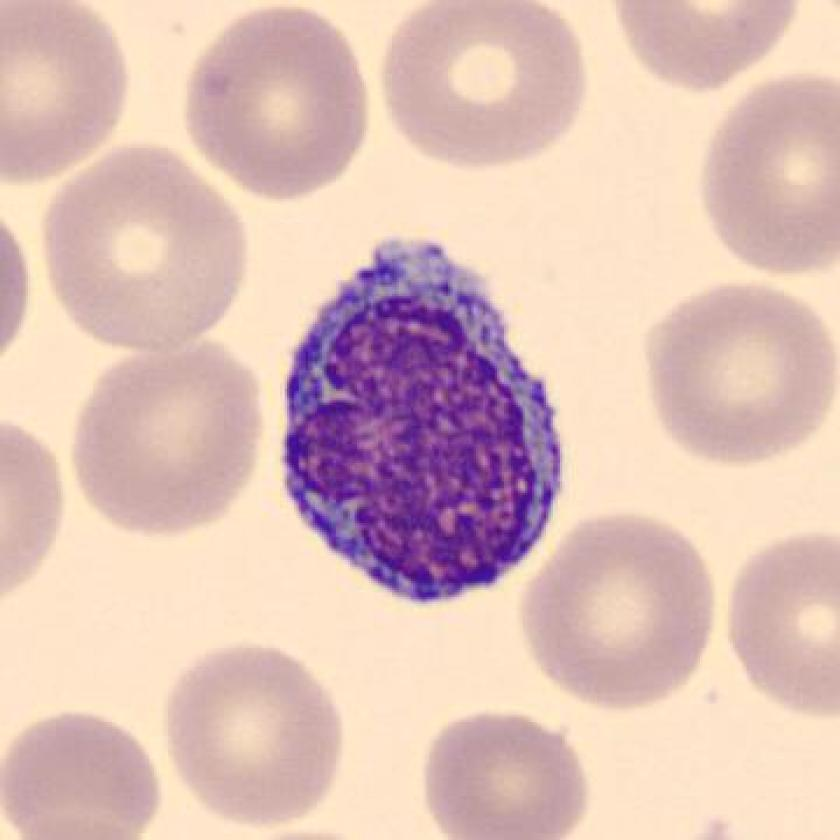monocyte: (248, 221, 594, 628)
